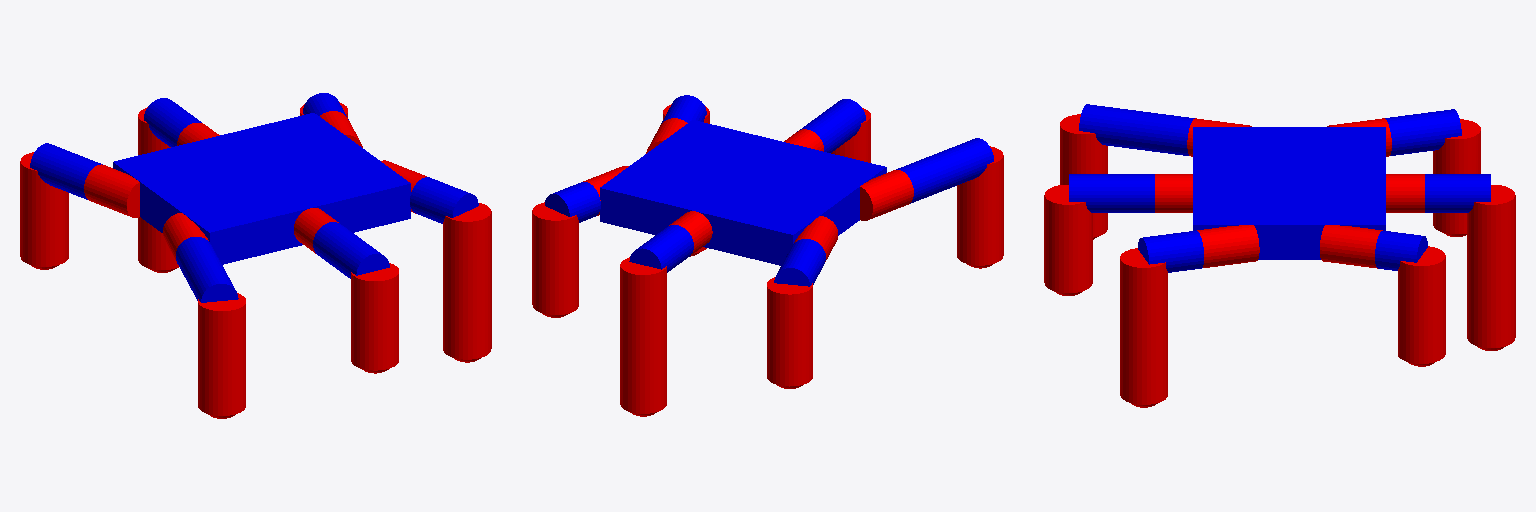
--- Facts derived from the render (not from the file) ---
Views: 3 orthographic renders of the robot side by side, from view 1: azimuth 30°, elevation 25°; view 2: azimuth 150°, elevation 25°; view 3: azimuth 270°, elevation 25°.
Model pexod with 19 links and 18 joints (18 revolute), rooted at base_link, posed every joint at zero.
Links seen in each view (by area): view 1: base_link, leg_3_3, leg_5_3, leg_4_3, leg_0_3, leg_5_2, leg_4_2, leg_0_2, leg_0_1, leg_1_3, leg_3_2, leg_1_2 (+5 smaller); view 2: base_link, leg_1_3, leg_2_3, leg_0_3, leg_5_3, leg_5_2, leg_5_1, leg_1_2, leg_4_2, leg_0_2, leg_2_2, leg_4_3 (+3 smaller); view 3: base_link, leg_1_3, leg_3_3, leg_2_3, leg_4_3, leg_5_2, leg_4_2, leg_0_3, leg_5_3, leg_0_2, leg_1_2, leg_3_1 (+5 smaller).
Boxes of the visible links, x1=… form: base_link: x1=113, y1=113, x2=410, y2=264; leg_3_3: x1=443, y1=203, x2=491, y2=362; leg_5_3: x1=198, y1=293, x2=245, y2=418; leg_4_3: x1=351, y1=263, x2=398, y2=373; leg_0_3: x1=20, y1=152, x2=68, y2=269; leg_5_2: x1=176, y1=237, x2=238, y2=302; leg_4_2: x1=313, y1=222, x2=389, y2=278; leg_0_2: x1=30, y1=143, x2=102, y2=199; leg_0_1: x1=84, y1=164, x2=139, y2=217; leg_1_3: x1=138, y1=107, x2=178, y2=272; leg_3_2: x1=410, y1=177, x2=478, y2=223; leg_1_2: x1=144, y1=98, x2=201, y2=146; base_link: x1=600, y1=120, x2=886, y2=265; leg_1_3: x1=620, y1=257, x2=666, y2=416; leg_2_3: x1=532, y1=202, x2=578, y2=317; leg_0_3: x1=767, y1=277, x2=812, y2=388; leg_5_3: x1=957, y1=146, x2=1003, y2=268; leg_5_2: x1=896, y1=138, x2=993, y2=203; leg_5_1: x1=860, y1=170, x2=913, y2=220; leg_1_2: x1=629, y1=225, x2=693, y2=272; leg_4_2: x1=797, y1=99, x2=865, y2=152; leg_0_2: x1=774, y1=239, x2=825, y2=286; leg_2_2: x1=545, y1=182, x2=600, y2=222; leg_4_3: x1=831, y1=108, x2=870, y2=162; base_link: x1=1193, y1=127, x2=1385, y2=259; leg_1_3: x1=1467, y1=185, x2=1515, y2=350; leg_3_3: x1=1120, y1=248, x2=1167, y2=407; leg_2_3: x1=1398, y1=246, x2=1445, y2=366; leg_4_3: x1=1044, y1=185, x2=1092, y2=295; leg_5_2: x1=1079, y1=104, x2=1194, y2=155; leg_4_2: x1=1069, y1=174, x2=1154, y2=212; leg_0_3: x1=1433, y1=119, x2=1480, y2=236; leg_5_3: x1=1060, y1=114, x2=1107, y2=239; leg_0_2: x1=1385, y1=109, x2=1461, y2=155; leg_1_2: x1=1425, y1=174, x2=1490, y2=212; leg_3_1: x1=1197, y1=225, x2=1259, y2=267.
Bounding box of the posed robot: 0.3777 × 0.4888 × 0.1969 m (x, y, z).
Geometry: primitives only (box / cylinder / sphere), no mesh files.

robot.urdf — pexod:
<?xml version="1.0" ?>
<!-- =================================================================================== -->
<!-- |    This document was autogenerated by xacro from pexod.xacro                    | -->
<!-- |    EDITING THIS FILE BY HAND IS NOT RECOMMENDED                                 | -->
<!-- =================================================================================== -->
<robot name="pexod" xmlns:xacro="http://www.ros.org/wiki/xacro">
  <!-- <xacro:include filename="$(find pexod_description)/urdf/pexod_control.xacro" /> -->
  <!-- MATERIALS -->
  <material name="Blue">
    <color rgba="0 0 1 1"/>
  </material>
  <material name="Red">
    <color rgba="1 0 0 1"/>
  </material>
  <material name="Green">
    <color rgba="0 1 0 1"/>
  </material>
  <material name="Yellow">
    <color rgba="1 1 0 1"/>
  </material>
  <material name="LightGrey">
    <color rgba="0.6 0.6 0.6 1.0"/>
  </material>
  <!-- END OF MATERIALS -->
  <!-- XACRO MACROS FOR VISUALS AND COLLISIONS -->
  <!-- END OF XACRO MACROS -->
  <!-- TORSO -->
  <link name="base_link">
    <visual>
      <origin rpy="0 0 0" xyz="0 0 0"/>
      <geometry>
        <box size="0.24 0.2 0.04"/>
      </geometry>
      <material name="Blue"/>
    </visual>
    <collision>
      <origin rpy="0 0 0" xyz="0 0 0"/>
      <geometry>
        <box size="0.24 0.2 0.04"/>
      </geometry>
    </collision>
    <inertial>
      <!-- CENTER OF MASS -->
      <origin rpy="0 0 0" xyz="0 0 0"/>
      <mass value="1.031"/>
      <!-- box inertia: 1/12*m(y^2+z^2), ... -->
      <inertia ixx="0.00357413333333" ixy="0" ixz="0" iyy="0.00508626666667" iyz="0" izz="0.00838546666667"/>
    </inertial>
  </link>
  <!-- XACRO MACRO FOR LEGS LINKS/JOINTS -->
  <!-- END OF LEG LINKS/JOINTS -->
  <joint name="body_leg_2" type="revolute">
    <parent link="base_link"/>
    <child link="leg_2_1"/>
    <limit effort="30.0" lower="-1.57079632679" upper="1.57079632679" velocity="7.0"/>
    <origin rpy="0 0 -0.3" xyz="0.11 0.04 0"/>
    <!-- <xacro:if value="${index == 5 or index == 4 or index == 3}">
                <axis xyz="0 0 1"/>
            </xacro:if>
            <xacro:if value="${index == 2 or index == 1 or index == 0}"> -->
    <axis xyz="0 0 1"/>
    <!-- </xacro:if> -->
    <dynamics damping="0.0"/>
  </joint>
  <link name="leg_2_1">
    <visual>
      <origin rpy="1.57079632679 0 0" xyz="0.01 0.03 0"/>
      <geometry>
        <cylinder length="0.06" radius="0.02"/>
      </geometry>
      <material name="Red"/>
    </visual>
    <collision>
      <origin rpy="1.57079632679 0 0" xyz="0.01 0.03 0"/>
      <geometry>
        <box size="0.02 0.02 0.06"/>
      </geometry>
    </collision>
    <inertial>
      <!-- CENTER OF MASS -->
      <origin rpy="1.57079632679 0 0" xyz="0.01 0.03 0"/>
      <mass value="0.02"/>
      <!-- box inertia: 1/12*m(y^2+z^2), ... -->
      <inertia ixx="6.66666666667e-06" ixy="0" ixz="0" iyy="6.66666666667e-06" iyz="0" izz="1.33333333333e-06"/>
    </inertial>
  </link>
  <joint name="leg_2_1_2" type="revolute">
    <parent link="leg_2_1"/>
    <child link="leg_2_2"/>
    <limit effort="30.0" lower="-0.78539816339" upper="0.78539816339" velocity="7.0"/>
    <origin rpy="0 0 0" xyz="0 0.06 0"/>
    <axis xyz="1 0 0"/>
    <dynamics damping="0.0"/>
  </joint>
  <link name="leg_2_2">
    <visual>
      <origin rpy="1.57079632679 0 0" xyz="0.01 0.0226828233469 0"/>
      <geometry>
        <cylinder length="0.0453656466937" radius="0.02"/>
      </geometry>
      <material name="Blue"/>
    </visual>
    <collision>
      <origin rpy="1.57079632679 0 0" xyz="0.01 0.0226828233469 0"/>
      <geometry>
        <box size="0.02 0.02 0.0453656466937"/>
      </geometry>
    </collision>
    <inertial>
      <!-- CENTER OF MASS -->
      <origin rpy="1.57079632679 0 0" xyz="0.01 0.0226828233469 0"/>
      <mass value="0.184"/>
      <!-- box inertia: 1/12*m(y^2+z^2), ... -->
      <inertia ixx="3.7689975799e-05" ixy="0" ixz="0" iyy="3.7689975799e-05" iyz="0" izz="1.22666666667e-05"/>
    </inertial>
  </link>
  <joint name="leg_2_2_3" type="revolute">
    <parent link="leg_2_2"/>
    <child link="leg_2_3"/>
    <limit effort="30.0" lower="-0.78539816339" upper="0.78539816339" velocity="7.0"/>
    <origin rpy="-1.57079632679 0 0" xyz="0 0.0453656466937 0"/>
    <axis xyz="-1 0 0"/>
    <dynamics damping="0.0"/>
  </joint>
  <link name="leg_2_3">
    <visual>
      <origin rpy="1.57079632679 0 0" xyz="0.0125 0.055950567152 0"/>
      <geometry>
        <cylinder length="0.111901134304" radius="0.025"/>
      </geometry>
      <material name="Red"/>
    </visual>
    <visual>
      <origin rpy="1.57079632679 0 0" xyz="0.0125 0.099401134304 0"/>
      <geometry>
        <sphere radius="0.025"/>
      </geometry>
      <material name="Red"/>
    </visual>
    <collision>
      <origin rpy="1.57079632679 0 0" xyz="0.0125 0.055950567152 0"/>
      <geometry>
        <box size="0.025 0.025 0.111901134304"/>
      </geometry>
    </collision>
    <collision>
      <origin rpy="1.57079632679 0 0" xyz="0.0125 0.099401134304 0"/>
      <geometry>
        <sphere radius="0.025"/>
      </geometry>
      <material name="Red"/>
    </collision>
    <inertial>
      <!-- CENTER OF MASS -->
      <origin rpy="1.57079632679 0 0" xyz="0.0125 0.055950567152 0"/>
      <mass value="0.04"/>
      <!-- box inertia: 1/12*m(y^2+z^2), ... -->
      <inertia ixx="4.38228795284e-05" ixy="0" ixz="0" iyy="4.38228795284e-05" iyz="0" izz="4.16666666667e-06"/>
    </inertial>
  </link>
  <joint name="body_leg_3" type="revolute">
    <parent link="base_link"/>
    <child link="leg_3_1"/>
    <limit effort="30.0" lower="-1.57079632679" upper="1.57079632679" velocity="7.0"/>
    <origin rpy="0 0 0.3" xyz="0.11 -0.04 0"/>
    <!-- <xacro:if value="${index == 5 or index == 4 or index == 3}">
                <axis xyz="0 0 1"/>
            </xacro:if>
            <xacro:if value="${index == 2 or index == 1 or index == 0}"> -->
    <axis xyz="0 0 1"/>
    <!-- </xacro:if> -->
    <dynamics damping="0.0"/>
  </joint>
  <link name="leg_3_1">
    <visual>
      <origin rpy="1.57079632679 0 0" xyz="0.01 -0.03 0"/>
      <geometry>
        <cylinder length="0.06" radius="0.02"/>
      </geometry>
      <material name="Red"/>
    </visual>
    <collision>
      <origin rpy="1.57079632679 0 0" xyz="0.01 -0.03 0"/>
      <geometry>
        <box size="0.02 0.02 0.06"/>
      </geometry>
    </collision>
    <inertial>
      <!-- CENTER OF MASS -->
      <origin rpy="1.57079632679 0 0" xyz="0.01 -0.03 0"/>
      <mass value="0.02"/>
      <!-- box inertia: 1/12*m(y^2+z^2), ... -->
      <inertia ixx="6.66666666667e-06" ixy="0" ixz="0" iyy="6.66666666667e-06" iyz="0" izz="1.33333333333e-06"/>
    </inertial>
  </link>
  <joint name="leg_3_1_2" type="revolute">
    <parent link="leg_3_1"/>
    <child link="leg_3_2"/>
    <limit effort="30.0" lower="-0.78539816339" upper="0.78539816339" velocity="7.0"/>
    <origin rpy="0 0 0" xyz="0 -0.06 0"/>
    <axis xyz="-1 0 0"/>
    <dynamics damping="0.0"/>
  </joint>
  <link name="leg_3_2">
    <visual>
      <origin rpy="1.57079632679 0 0" xyz="0.01 -0.0299617034387 0"/>
      <geometry>
        <cylinder length="0.0599234068773" radius="0.02"/>
      </geometry>
      <material name="Blue"/>
    </visual>
    <collision>
      <origin rpy="1.57079632679 0 0" xyz="0.01 -0.0299617034387 0"/>
      <geometry>
        <box size="0.02 0.02 0.0599234068773"/>
      </geometry>
    </collision>
    <inertial>
      <!-- CENTER OF MASS -->
      <origin rpy="1.57079632679 0 0" xyz="0.01 -0.0299617034387 0"/>
      <mass value="0.184"/>
      <!-- box inertia: 1/12*m(y^2+z^2), ... -->
      <inertia ixx="6.11924919407e-05" ixy="0" ixz="0" iyy="6.11924919407e-05" iyz="0" izz="1.22666666667e-05"/>
    </inertial>
  </link>
  <joint name="leg_3_2_3" type="revolute">
    <parent link="leg_3_2"/>
    <child link="leg_3_3"/>
    <limit effort="30.0" lower="-0.78539816339" upper="0.78539816339" velocity="7.0"/>
    <origin rpy="1.57079632679 0 0" xyz="0 -0.0599234068773 0"/>
    <axis xyz="1 0 0"/>
    <dynamics damping="0.0"/>
  </joint>
  <link name="leg_3_3">
    <visual>
      <origin rpy="1.57079632679 0 0" xyz="0.0125 -0.078410630523 0"/>
      <geometry>
        <cylinder length="0.156821261046" radius="0.025"/>
      </geometry>
      <material name="Red"/>
    </visual>
    <visual>
      <origin rpy="1.57079632679 0 0" xyz="0.0125 -0.144321261046 0"/>
      <geometry>
        <sphere radius="0.025"/>
      </geometry>
      <material name="Red"/>
    </visual>
    <collision>
      <origin rpy="1.57079632679 0 0" xyz="0.0125 -0.078410630523 0"/>
      <geometry>
        <box size="0.025 0.025 0.156821261046"/>
      </geometry>
    </collision>
    <collision>
      <origin rpy="1.57079632679 0 0" xyz="0.0125 -0.144321261046 0"/>
      <geometry>
        <sphere radius="0.025"/>
      </geometry>
      <material name="Red"/>
    </collision>
    <inertial>
      <!-- CENTER OF MASS -->
      <origin rpy="1.57079632679 0 0" xyz="0.0125 -0.078410630523 0"/>
      <mass value="0.04"/>
      <!-- box inertia: 1/12*m(y^2+z^2), ... -->
      <inertia ixx="8.40596930535e-05" ixy="0" ixz="0" iyy="8.40596930535e-05" iyz="0" izz="4.16666666667e-06"/>
    </inertial>
  </link>
  <joint name="body_leg_0" type="revolute">
    <parent link="base_link"/>
    <child link="leg_0_1"/>
    <limit effort="30.0" lower="-1.57079632679" upper="1.57079632679" velocity="7.0"/>
    <origin rpy="0 0 0.3" xyz="-0.13 0.04 0"/>
    <!-- <xacro:if value="${index == 5 or index == 4 or index == 3}">
                <axis xyz="0 0 1"/>
            </xacro:if>
            <xacro:if value="${index == 2 or index == 1 or index == 0}"> -->
    <axis xyz="0 0 1"/>
    <!-- </xacro:if> -->
    <dynamics damping="0.0"/>
  </joint>
  <link name="leg_0_1">
    <visual>
      <origin rpy="1.57079632679 0 0" xyz="0.01 0.03 0"/>
      <geometry>
        <cylinder length="0.06" radius="0.02"/>
      </geometry>
      <material name="Red"/>
    </visual>
    <collision>
      <origin rpy="1.57079632679 0 0" xyz="0.01 0.03 0"/>
      <geometry>
        <box size="0.02 0.02 0.06"/>
      </geometry>
    </collision>
    <inertial>
      <!-- CENTER OF MASS -->
      <origin rpy="1.57079632679 0 0" xyz="0.01 0.03 0"/>
      <mass value="0.02"/>
      <!-- box inertia: 1/12*m(y^2+z^2), ... -->
      <inertia ixx="6.66666666667e-06" ixy="0" ixz="0" iyy="6.66666666667e-06" iyz="0" izz="1.33333333333e-06"/>
    </inertial>
  </link>
  <joint name="leg_0_1_2" type="revolute">
    <parent link="leg_0_1"/>
    <child link="leg_0_2"/>
    <limit effort="30.0" lower="-0.78539816339" upper="0.78539816339" velocity="7.0"/>
    <origin rpy="0 0 0" xyz="0 0.06 0"/>
    <axis xyz="1 0 0"/>
    <dynamics damping="0.0"/>
  </joint>
  <link name="leg_0_2">
    <visual>
      <origin rpy="1.57079632679 0 0" xyz="0.01 0.0380101265036 0"/>
      <geometry>
        <cylinder length="0.0760202530072" radius="0.02"/>
      </geometry>
      <material name="Blue"/>
    </visual>
    <collision>
      <origin rpy="1.57079632679 0 0" xyz="0.01 0.0380101265036 0"/>
      <geometry>
        <box size="0.02 0.02 0.0760202530072"/>
      </geometry>
    </collision>
    <inertial>
      <!-- CENTER OF MASS -->
      <origin rpy="1.57079632679 0 0" xyz="0.01 0.0380101265036 0"/>
      <mass value="0.184"/>
      <!-- box inertia: 1/12*m(y^2+z^2), ... -->
      <inertia ixx="9.47458759649e-05" ixy="0" ixz="0" iyy="9.47458759649e-05" iyz="0" izz="1.22666666667e-05"/>
    </inertial>
  </link>
  <joint name="leg_0_2_3" type="revolute">
    <parent link="leg_0_2"/>
    <child link="leg_0_3"/>
    <limit effort="30.0" lower="-0.78539816339" upper="0.78539816339" velocity="7.0"/>
    <origin rpy="-1.57079632679 0 0" xyz="0 0.0760202530072 0"/>
    <axis xyz="-1 0 0"/>
    <dynamics damping="0.0"/>
  </joint>
  <link name="leg_0_3">
    <visual>
      <origin rpy="1.57079632679 0 0" xyz="0.0125 0.054436418008 0"/>
      <geometry>
        <cylinder length="0.108872836016" radius="0.025"/>
      </geometry>
      <material name="Red"/>
    </visual>
    <visual>
      <origin rpy="1.57079632679 0 0" xyz="0.0125 0.096372836016 0"/>
      <geometry>
        <sphere radius="0.025"/>
      </geometry>
      <material name="Red"/>
    </visual>
    <collision>
      <origin rpy="1.57079632679 0 0" xyz="0.0125 0.054436418008 0"/>
      <geometry>
        <box size="0.025 0.025 0.108872836016"/>
      </geometry>
    </collision>
    <collision>
      <origin rpy="1.57079632679 0 0" xyz="0.0125 0.096372836016 0"/>
      <geometry>
        <sphere radius="0.025"/>
      </geometry>
      <material name="Red"/>
    </collision>
    <inertial>
      <!-- CENTER OF MASS -->
      <origin rpy="1.57079632679 0 0" xyz="0.0125 0.054436418008 0"/>
      <mass value="0.04"/>
      <!-- box inertia: 1/12*m(y^2+z^2), ... -->
      <inertia ixx="4.15943147406e-05" ixy="0" ixz="0" iyy="4.15943147406e-05" iyz="0" izz="4.16666666667e-06"/>
    </inertial>
  </link>
  <joint name="body_leg_5" type="revolute">
    <parent link="base_link"/>
    <child link="leg_5_1"/>
    <limit effort="30.0" lower="-1.57079632679" upper="1.57079632679" velocity="7.0"/>
    <origin rpy="0 0 -0.3" xyz="-0.13 -0.04 0"/>
    <!-- <xacro:if value="${index == 5 or index == 4 or index == 3}">
                <axis xyz="0 0 1"/>
            </xacro:if>
            <xacro:if value="${index == 2 or index == 1 or index == 0}"> -->
    <axis xyz="0 0 1"/>
    <!-- </xacro:if> -->
    <dynamics damping="0.0"/>
  </joint>
  <link name="leg_5_1">
    <visual>
      <origin rpy="1.57079632679 0 0" xyz="0.01 -0.03 0"/>
      <geometry>
        <cylinder length="0.06" radius="0.02"/>
      </geometry>
      <material name="Red"/>
    </visual>
    <collision>
      <origin rpy="1.57079632679 0 0" xyz="0.01 -0.03 0"/>
      <geometry>
        <box size="0.02 0.02 0.06"/>
      </geometry>
    </collision>
    <inertial>
      <!-- CENTER OF MASS -->
      <origin rpy="1.57079632679 0 0" xyz="0.01 -0.03 0"/>
      <mass value="0.02"/>
      <!-- box inertia: 1/12*m(y^2+z^2), ... -->
      <inertia ixx="6.66666666667e-06" ixy="0" ixz="0" iyy="6.66666666667e-06" iyz="0" izz="1.33333333333e-06"/>
    </inertial>
  </link>
  <joint name="leg_5_1_2" type="revolute">
    <parent link="leg_5_1"/>
    <child link="leg_5_2"/>
    <limit effort="30.0" lower="-0.78539816339" upper="0.78539816339" velocity="7.0"/>
    <origin rpy="0 0 0" xyz="0 -0.06 0"/>
    <axis xyz="-1 0 0"/>
    <dynamics damping="0.0"/>
  </joint>
  <link name="leg_5_2">
    <visual>
      <origin rpy="1.57079632679 0 0" xyz="0.01 -0.058848273902 0"/>
      <geometry>
        <cylinder length="0.117696547804" radius="0.02"/>
      </geometry>
      <material name="Blue"/>
    </visual>
    <collision>
      <origin rpy="1.57079632679 0 0" xyz="0.01 -0.058848273902 0"/>
      <geometry>
        <box size="0.02 0.02 0.117696547804"/>
      </geometry>
    </collision>
    <inertial>
      <!-- CENTER OF MASS -->
      <origin rpy="1.57079632679 0 0" xyz="0.01 -0.058848273902 0"/>
      <mass value="0.184"/>
      <!-- box inertia: 1/12*m(y^2+z^2), ... -->
      <inertia ixx="0.000218537986263" ixy="0" ixz="0" iyy="0.000218537986263" iyz="0" izz="1.22666666667e-05"/>
    </inertial>
  </link>
  <joint name="leg_5_2_3" type="revolute">
    <parent link="leg_5_2"/>
    <child link="leg_5_3"/>
    <limit effort="30.0" lower="-0.78539816339" upper="0.78539816339" velocity="7.0"/>
    <origin rpy="1.57079632679 0 0" xyz="0 -0.117696547804 0"/>
    <axis xyz="1 0 0"/>
    <dynamics damping="0.0"/>
  </joint>
  <link name="leg_5_3">
    <visual>
      <origin rpy="1.57079632679 0 0" xyz="0.0125 -0.0596284178295 0"/>
      <geometry>
        <cylinder length="0.119256835659" radius="0.025"/>
      </geometry>
      <material name="Red"/>
    </visual>
    <visual>
      <origin rpy="1.57079632679 0 0" xyz="0.0125 -0.106756835659 0"/>
      <geometry>
        <sphere radius="0.025"/>
      </geometry>
      <material name="Red"/>
    </visual>
    <collision>
      <origin rpy="1.57079632679 0 0" xyz="0.0125 -0.0596284178295 0"/>
      <geometry>
        <box size="0.025 0.025 0.119256835659"/>
      </geometry>
    </collision>
    <collision>
      <origin rpy="1.57079632679 0 0" xyz="0.0125 -0.106756835659 0"/>
      <geometry>
        <sphere radius="0.025"/>
      </geometry>
      <material name="Red"/>
    </collision>
    <inertial>
      <!-- CENTER OF MASS -->
      <origin rpy="1.57079632679 0 0" xyz="0.0125 -0.0596284178295 0"/>
      <mass value="0.04"/>
      <!-- box inertia: 1/12*m(y^2+z^2), ... -->
      <inertia ixx="4.9490642838e-05" ixy="0" ixz="0" iyy="4.9490642838e-05" iyz="0" izz="4.16666666667e-06"/>
    </inertial>
  </link>
  <joint name="body_leg_1" type="revolute">
    <parent link="base_link"/>
    <child link="leg_1_1"/>
    <limit effort="30.0" lower="-1.57079632679" upper="1.57079632679" velocity="7.0"/>
    <origin rpy="0 0 0" xyz="-0.01 0.08 0"/>
    <!-- <xacro:if value="${index == 5 or index == 4 or index == 3}">
                <axis xyz="0 0 1"/>
            </xacro:if>
            <xacro:if value="${index == 2 or index == 1 or index == 0}"> -->
    <axis xyz="0 0 1"/>
    <!-- </xacro:if> -->
    <dynamics damping="0.0"/>
  </joint>
  <link name="leg_1_1">
    <visual>
      <origin rpy="1.57079632679 0 0" xyz="0.01 0.03 0"/>
      <geometry>
        <cylinder length="0.06" radius="0.02"/>
      </geometry>
      <material name="Red"/>
    </visual>
    <collision>
      <origin rpy="1.57079632679 0 0" xyz="0.01 0.03 0"/>
      <geometry>
        <box size="0.02 0.02 0.06"/>
      </geometry>
    </collision>
    <inertial>
      <!-- CENTER OF MASS -->
      <origin rpy="1.57079632679 0 0" xyz="0.01 0.03 0"/>
      <mass value="0.02"/>
      <!-- box inertia: 1/12*m(y^2+z^2), ... -->
      <inertia ixx="6.66666666667e-06" ixy="0" ixz="0" iyy="6.66666666667e-06" iyz="0" izz="1.33333333333e-06"/>
    </inertial>
  </link>
  <joint name="leg_1_1_2" type="revolute">
    <parent link="leg_1_1"/>
    <child link="leg_1_2"/>
    <limit effort="30.0" lower="-0.78539816339" upper="0.78539816339" velocity="7.0"/>
    <origin rpy="0 0 0" xyz="0 0.06 0"/>
    <axis xyz="1 0 0"/>
    <dynamics damping="0.0"/>
  </joint>
  <link name="leg_1_2">
    <visual>
      <origin rpy="1.57079632679 0 0" xyz="0.01 0.0347165826549 0"/>
      <geometry>
        <cylinder length="0.0694331653099" radius="0.02"/>
      </geometry>
      <material name="Blue"/>
    </visual>
    <collision>
      <origin rpy="1.57079632679 0 0" xyz="0.01 0.0347165826549 0"/>
      <geometry>
        <box size="0.02 0.02 0.0694331653099"/>
      </geometry>
    </collision>
    <inertial>
      <!-- CENTER OF MASS -->
      <origin rpy="1.57079632679 0 0" xyz="0.01 0.0347165826549 0"/>
      <mass value="0.184"/>
      <!-- box inertia: 1/12*m(y^2+z^2), ... -->
      <inertia ixx="8.00547881559e-05" ixy="0" ixz="0" iyy="8.00547881559e-05" iyz="0" izz="1.22666666667e-05"/>
    </inertial>
  </link>
  <joint name="leg_1_2_3" type="revolute">
    <parent link="leg_1_2"/>
    <child link="leg_1_3"/>
    <limit effort="30.0" lower="-0.78539816339" upper="0.78539816339" velocity="7.0"/>
    <origin rpy="-1.57079632679 0 0" xyz="0 0.0694331653099 0"/>
    <axis xyz="-1 0 0"/>
    <dynamics damping="0.0"/>
  </joint>
  <link name="leg_1_3">
    <visual>
      <origin rpy="1.57079632679 0 0" xyz="0.0125 0.0821763944115 0"/>
      <geometry>
        <cylinder length="0.164352788823" radius="0.025"/>
      </geometry>
      <material name="Red"/>
    </visual>
    <visual>
      <origin rpy="1.57079632679 0 0" xyz="0.0125 0.151852788823 0"/>
      <geometry>
        <sphere radius="0.025"/>
      </geometry>
      <material name="Red"/>
    </visual>
    <collision>
      <origin rpy="1.57079632679 0 0" xyz="0.0125 0.0821763944115 0"/>
      <geometry>
        <box size="0.025 0.025 0.164352788823"/>
      </geometry>
    </collision>
    <collision>
      <origin rpy="1.57079632679 0 0" xyz="0.0125 0.151852788823 0"/>
      <geometry>
        <sphere radius="0.025"/>
      </geometry>
      <material name="Red"/>
    </collision>
    <inertial>
      <!-- CENTER OF MASS -->
      <origin rpy="1.57079632679 0 0" xyz="0.0125 0.0821763944115 0"/>
      <mass value="0.04"/>
      <!-- box inertia: 1/12*m(y^2+z^2), ... -->
      <inertia ixx="9.2122797313e-05" ixy="0" ixz="0" iyy="9.2122797313e-05" iyz="0" izz="4.16666666667e-06"/>
    </inertial>
  </link>
  <joint name="body_leg_4" type="revolute">
    <parent link="base_link"/>
    <child link="leg_4_1"/>
    <limit effort="30.0" lower="-1.57079632679" upper="1.57079632679" velocity="7.0"/>
    <origin rpy="0 0 0" xyz="-0.01 -0.08 0"/>
    <!-- <xacro:if value="${index == 5 or index == 4 or index == 3}">
                <axis xyz="0 0 1"/>
            </xacro:if>
            <xacro:if value="${index == 2 or index == 1 or index == 0}"> -->
    <axis xyz="0 0 1"/>
    <!-- </xacro:if> -->
    <dynamics damping="0.0"/>
  </joint>
  <link name="leg_4_1">
    <visual>
      <origin rpy="1.57079632679 0 0" xyz="0.01 -0.03 0"/>
      <geometry>
        <cylinder length="0.06" radius="0.02"/>
      </geometry>
      <material name="Red"/>
    </visual>
    <collision>
      <origin rpy="1.57079632679 0 0" xyz="0.01 -0.03 0"/>
      <geometry>
        <box size="0.02 0.02 0.06"/>
      </geometry>
    </collision>
    <inertial>
      <!-- CENTER OF MASS -->
      <origin rpy="1.57079632679 0 0" xyz="0.01 -0.03 0"/>
      <mass value="0.02"/>
      <!-- box inertia: 1/12*m(y^2+z^2), ... -->
      <inertia ixx="6.66666666667e-06" ixy="0" ixz="0" iyy="6.66666666667e-06" iyz="0" izz="1.33333333333e-06"/>
    </inertial>
  </link>
  <joint name="leg_4_1_2" type="revolute">
    <parent link="leg_4_1"/>
    <child link="leg_4_2"/>
    <limit effort="30.0" lower="-0.78539816339" upper="0.78539816339" velocity="7.0"/>
    <origin rpy="0 0 0" xyz="0 -0.06 0"/>
    <axis xyz="-1 0 0"/>
    <dynamics damping="0.0"/>
  </joint>
  <link name="leg_4_2">
    <visual>
      <origin rpy="1.57079632679 0 0" xyz="0.01 -0.0446915261153 0"/>
      <geometry>
        <cylinder length="0.0893830522306" radius="0.02"/>
      </geometry>
      <material name="Blue"/>
    </visual>
    <collision>
      <origin rpy="1.57079632679 0 0" xyz="0.01 -0.0446915261153 0"/>
      <geometry>
        <box size="0.02 0.02 0.0893830522306"/>
      </geometry>
    </collision>
    <inertial>
      <!-- CENTER OF MASS -->
      <origin rpy="1.57079632679 0 0" xyz="0.01 -0.0446915261153 0"/>
      <mass value="0.184"/>
      <!-- box inertia: 1/12*m(y^2+z^2), ... -->
      <inertia ixx="0.000128636393733" ixy="0" ixz="0" iyy="0.000128636393733" iyz="0" izz="1.22666666667e-05"/>
    </inertial>
  </link>
  <joint name="leg_4_2_3" type="revolute">
    <parent link="leg_4_2"/>
    <child link="leg_4_3"/>
    <limit effort="30.0" lower="-0.78539816339" upper="0.78539816339" velocity="7.0"/>
    <origin rpy="1.57079632679 0 0" xyz="0 -0.0893830522306 0"/>
    <axis xyz="1 0 0"/>
    <dynamics damping="0.0"/>
  </joint>
  <link name="leg_4_3">
    <visual>
      <origin rpy="1.57079632679 0 0" xyz="0.0125 -0.05068796831 0"/>
      <geometry>
        <cylinder length="0.10137593662" radius="0.025"/>
      </geometry>
      <material name="Red"/>
    </visual>
    <visual>
      <origin rpy="1.57079632679 0 0" xyz="0.0125 -0.08887593662 0"/>
      <geometry>
        <sphere radius="0.025"/>
      </geometry>
      <material name="Red"/>
    </visual>
    <collision>
      <origin rpy="1.57079632679 0 0" xyz="0.0125 -0.05068796831 0"/>
      <geometry>
        <box size="0.025 0.025 0.10137593662"/>
      </geometry>
    </collision>
    <collision>
      <origin rpy="1.57079632679 0 0" xyz="0.0125 -0.08887593662 0"/>
      <geometry>
        <sphere radius="0.025"/>
      </geometry>
      <material name="Red"/>
    </collision>
    <inertial>
      <!-- CENTER OF MASS -->
      <origin rpy="1.57079632679 0 0" xyz="0.0125 -0.05068796831 0"/>
      <mass value="0.04"/>
      <!-- box inertia: 1/12*m(y^2+z^2), ... -->
      <inertia ixx="3.63402684186e-05" ixy="0" ixz="0" iyy="3.63402684186e-05" iyz="0" izz="4.16666666667e-06"/>
    </inertial>
  </link>
  <!-- END OF LEG LINKS/JOINTS -->
</robot>
